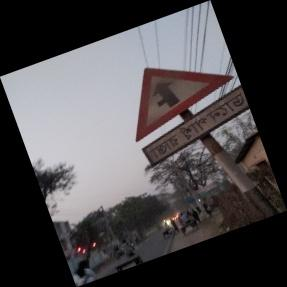Side-road-right: (135, 67, 257, 169)
